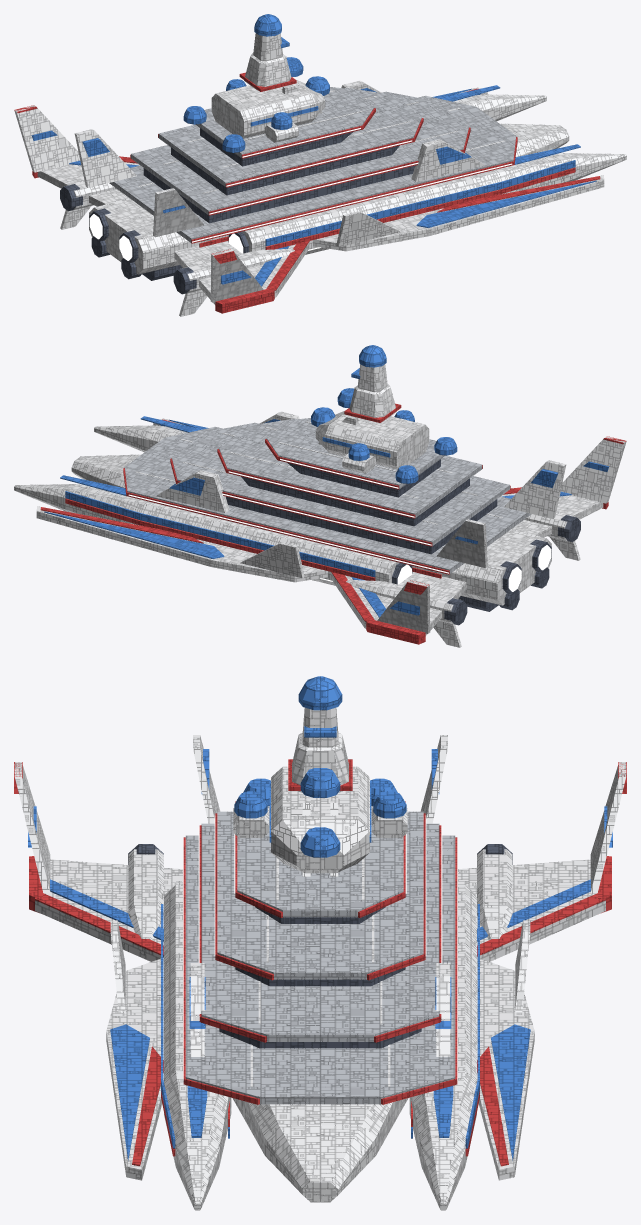
File: air_lod1.glb
3 views of the same model, one above another, from view 1: azimuth 30°, elevation 25°; view 2: azimuth 150°, elevation 25°; view 3: azimuth 270°, elevation 25° (orthographic). The views are drawn at different scales.
Parts seen in each view (by area): view 1: air_lod1_body, air_lod1_glow; view 2: air_lod1_body, air_lod1_glow; view 3: air_lod1_body, air_lod1_glow.
Part boxes in pixels (x1=…): air_lod1_body: x1=14, y1=14, x2=626, y2=316; air_lod1_glow: x1=89, y1=128, x2=512, y2=260; air_lod1_body: x1=14, y1=345, x2=626, y2=647; air_lod1_glow: x1=128, y1=459, x2=551, y2=591; air_lod1_body: x1=14, y1=676, x2=626, y2=1210; air_lod1_glow: x1=183, y1=803, x2=457, y2=1080.
Bounding box in the file's own units: 21.24 × 9.45 × 15.46.
Materials: 2 (1 with a texture image).
